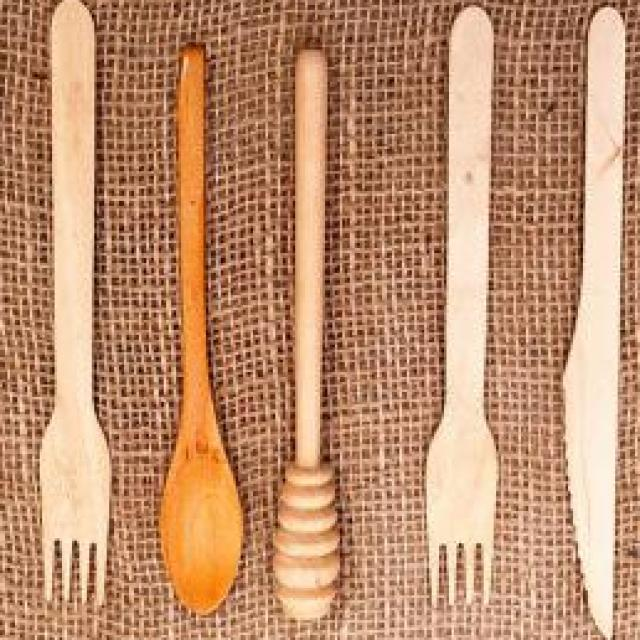knife: (561, 1, 625, 635)
